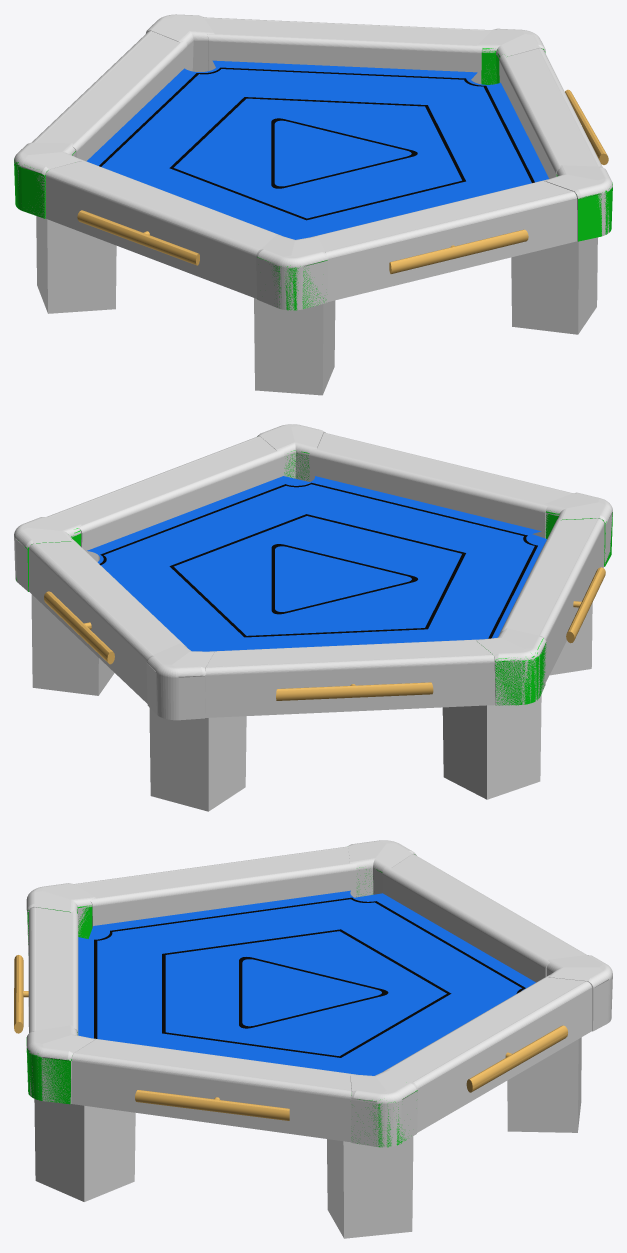
The model's file is Pentagon.fbx.
3 renders of one model, top to bottom at view 1: azimuth 30°, elevation 25°; view 2: azimuth 150°, elevation 25°; view 3: azimuth 270°, elevation 25°, orthographic.
Visible parts, largest first — view 1: EdgeGlow, ActualBase, Hole1TriggerSide2, Hole2TriggerSide2, Hole5TriggerSide3, Handle2.002, MiddleRing.001, Handle3, Hole2TriggerSide1, HoleGlow5.001, HoleGlow2.001, OuterRing.001 (+6 smaller); view 2: EdgeGlow, ActualBase, Hole4TriggerSide2, Hole5TriggerSide1, Hole3TriggerSide2, Hole5TriggerSide2, Hole4TriggerSide1, HoleGlow5.001, Handle3.003, MiddleRing.001, OuterRing.001, Hole1TriggerSide4 (+3 smaller); view 3: EdgeGlow, ActualBase, Hole3TriggerSide4, Hole4TriggerSide4, Hole2TriggerSide1, Hole2TriggerSide3, Handle2, HoleGlow2.001, MiddleRing.001, OuterRing.001, Hole3TriggerSide3, Handle3.002 (+2 smaller).
Part boxes in pixels (x1,y1,x2,y2): EdgeGlow: (14, 14, 612, 310); ActualBase: (86, 60, 548, 239); Hole1TriggerSide2: (254, 298, 323, 395); Hole2TriggerSide2: (511, 241, 578, 334); Hole5TriggerSide3: (47, 219, 116, 313); Handle2.002: (389, 229, 528, 273); MiddleRing.001: (169, 97, 465, 220); Handle3: (77, 210, 199, 265); Hole2TriggerSide1: (578, 237, 597, 333); HoleGlow5.001: (14, 151, 75, 218); HoleGlow2.001: (556, 174, 612, 241); OuterRing.001: (99, 67, 534, 182); EdgeGlow: (14, 424, 612, 720); ActualBase: (87, 476, 546, 651); Hole4TriggerSide2: (149, 707, 208, 811); Hole5TriggerSide1: (487, 694, 541, 799); Hole3TriggerSide2: (31, 594, 98, 695); Hole5TriggerSide2: (442, 705, 486, 799); Hole4TriggerSide1: (208, 716, 246, 811); HoleGlow5.001: (483, 638, 546, 705); Handle3.003: (276, 682, 433, 700); MiddleRing.001: (169, 514, 465, 637); OuterRing.001: (99, 482, 537, 638); Hole1TriggerSide4: (550, 603, 592, 675); EdgeGlow: (26, 840, 612, 1147); ActualBase: (78, 890, 535, 1075); Hole3TriggerSide4: (343, 1136, 413, 1238); Hole4TriggerSide4: (507, 1039, 578, 1132); Hole2TriggerSide1: (34, 1099, 84, 1201); Hole2TriggerSide3: (84, 1105, 135, 1201); Handle2: (135, 1090, 289, 1120); HoleGlow2.001: (26, 1032, 77, 1104); MiddleRing.001: (162, 929, 451, 1057); OuterRing.001: (94, 897, 525, 1038); Hole3TriggerSide3: (327, 1139, 344, 1238); Handle3.002: (466, 1025, 567, 1091).
Bounding box in the file's own units: 2.34 × 0.631 × 2.28.
